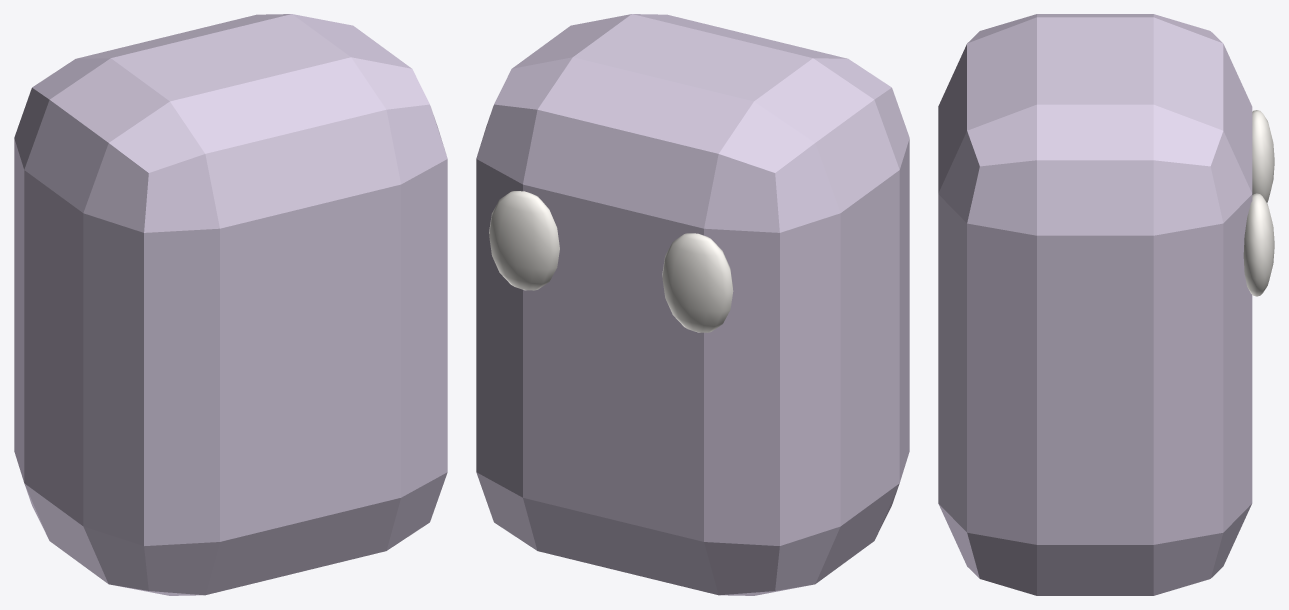
Rendered from hi3d-hi3d-monster-proxy-DkspBwQT.glb.
The picture shows the model from 3 angles, left to right: view 1: azimuth 30°, elevation 25°; view 2: azimuth 150°, elevation 25°; view 3: azimuth 270°, elevation 25°; orthographic projection.
Parts seen in each view (by area): view 1: PROXY_BODY; view 2: PROXY_BODY, PROXY_EYE.002, PROXY_EYE.003; view 3: PROXY_BODY, PROXY_EYE.003, PROXY_EYE.002.
Part boxes in pixels (x1,y1,x2,y2): PROXY_BODY: (14,14,447,595); PROXY_BODY: (476,14,909,595); PROXY_EYE.002: (662,233,733,332); PROXY_EYE.003: (489,191,559,290); PROXY_BODY: (938,14,1252,595); PROXY_EYE.003: (1243,193,1274,296); PROXY_EYE.002: (1252,110,1274,202).
Bounding box in the file's own units: 0.9 × 1.2 × 0.75.
